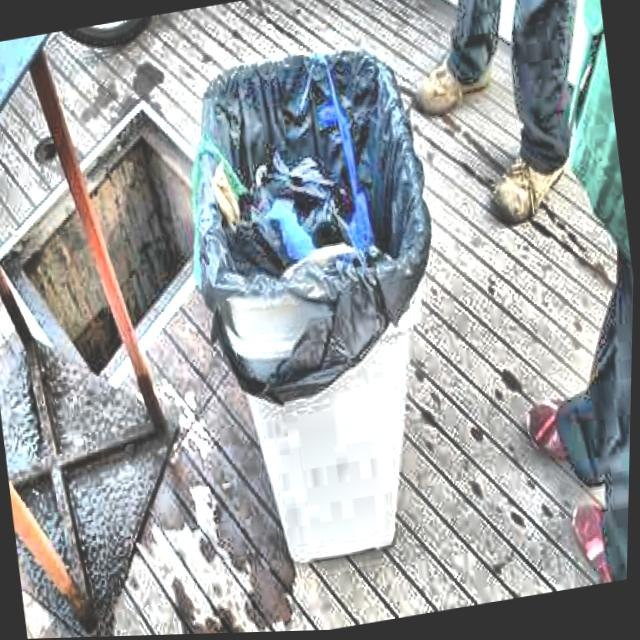Plastic: (162, 18, 471, 406)
